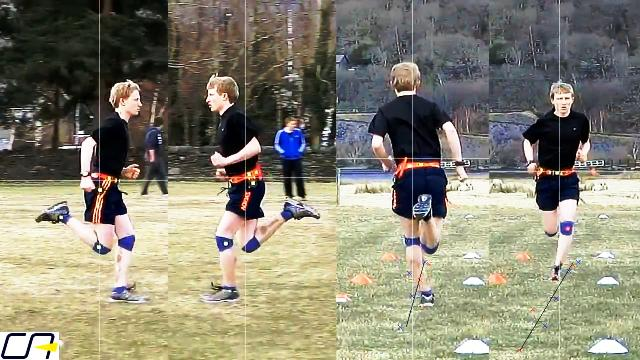berlari: (195, 67, 322, 307), (364, 57, 470, 316), (32, 73, 144, 309), (516, 75, 596, 279)
